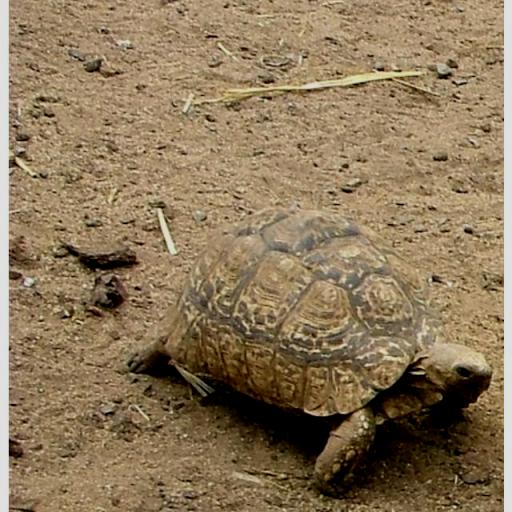turtle: (123, 204, 493, 497)
